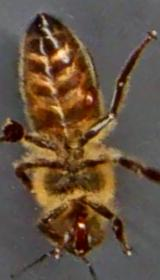varroa_mite: (74, 78, 106, 120)
